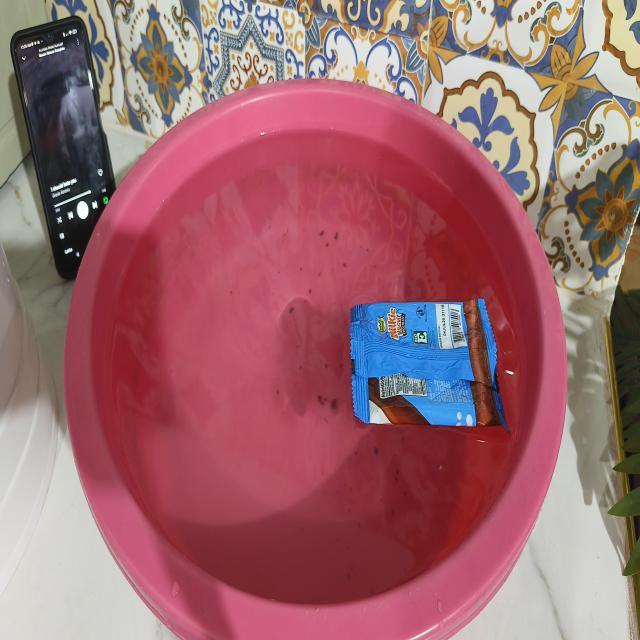Plastic Wrapper: (350, 299, 509, 431)
